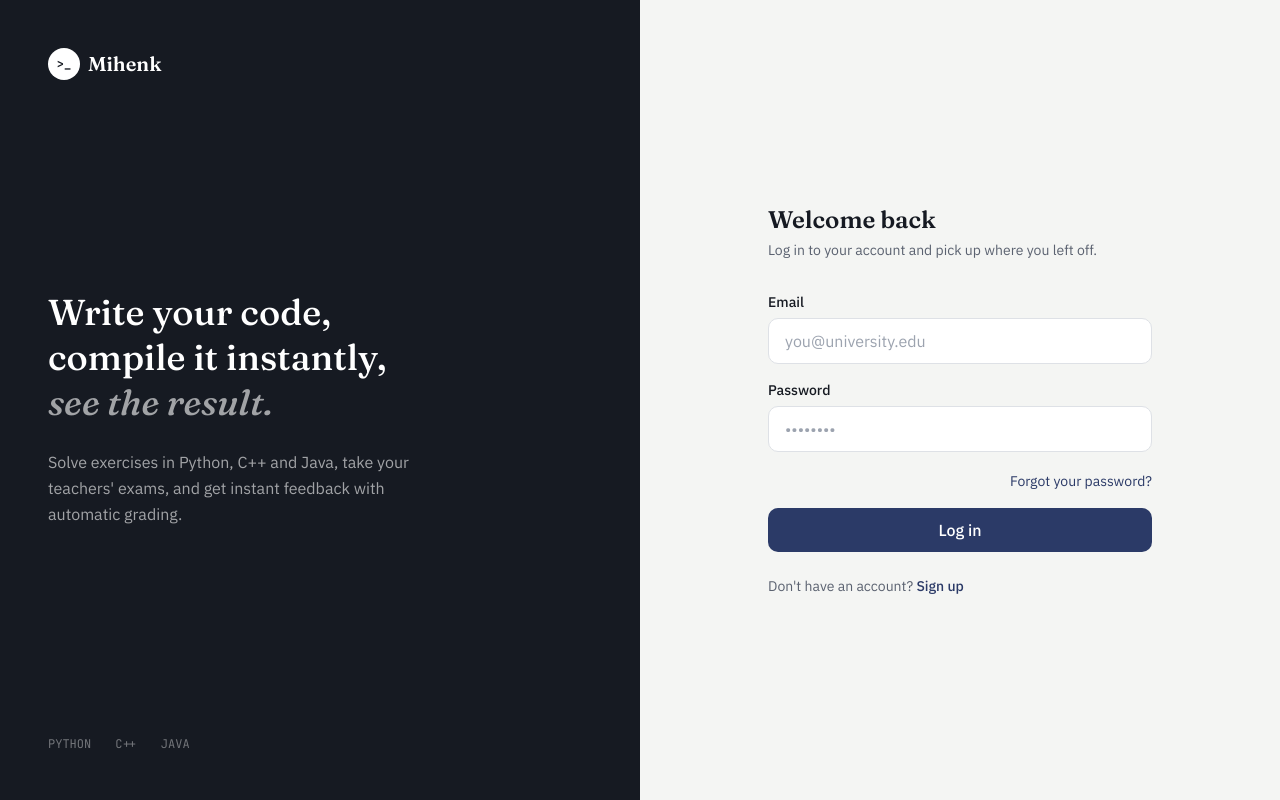
Test: login › does not store anything when the credentials are wrong
The width and height of the screenshot is (1280, 800).
Type "ada@x.edu" into the field labelled "Email" at (960, 341), box [768, 318, 1152, 364]
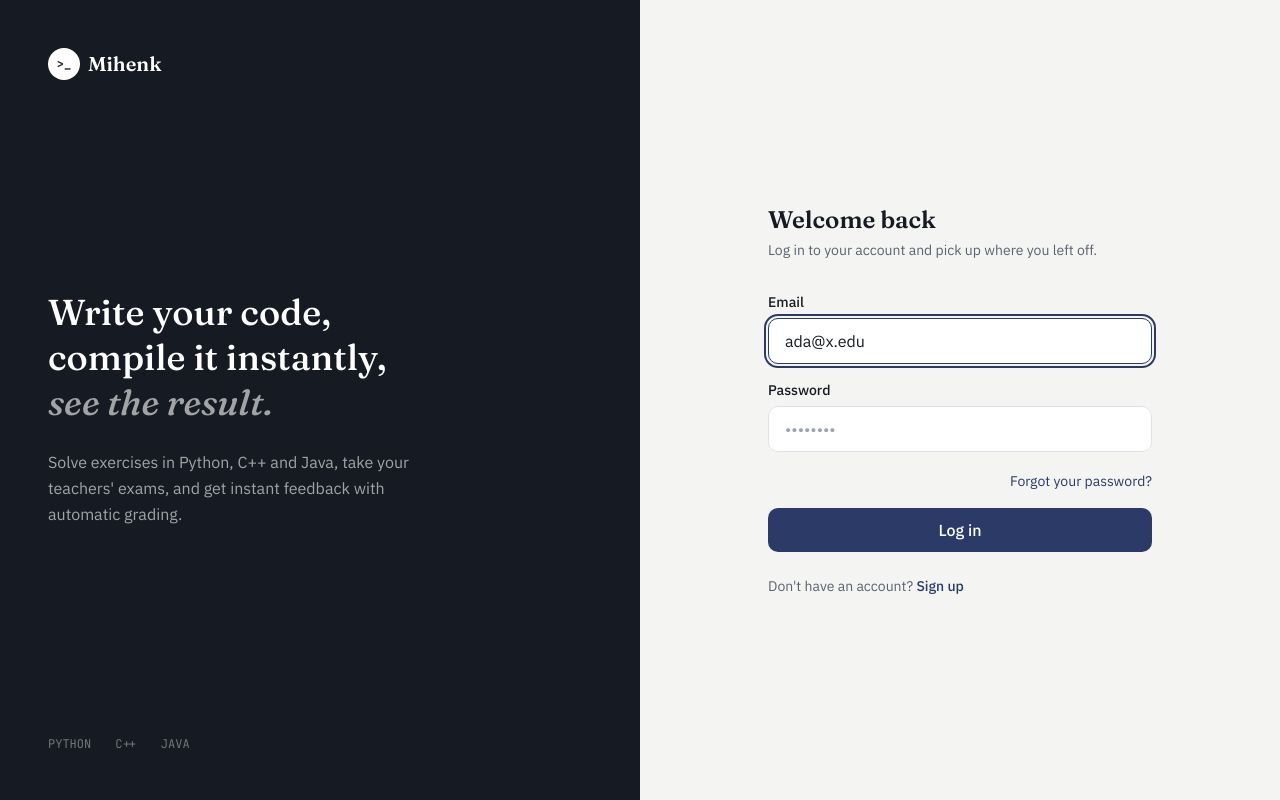
Type "wrong" into the password field labelled "Password" at (960, 429), box [768, 406, 1152, 452]
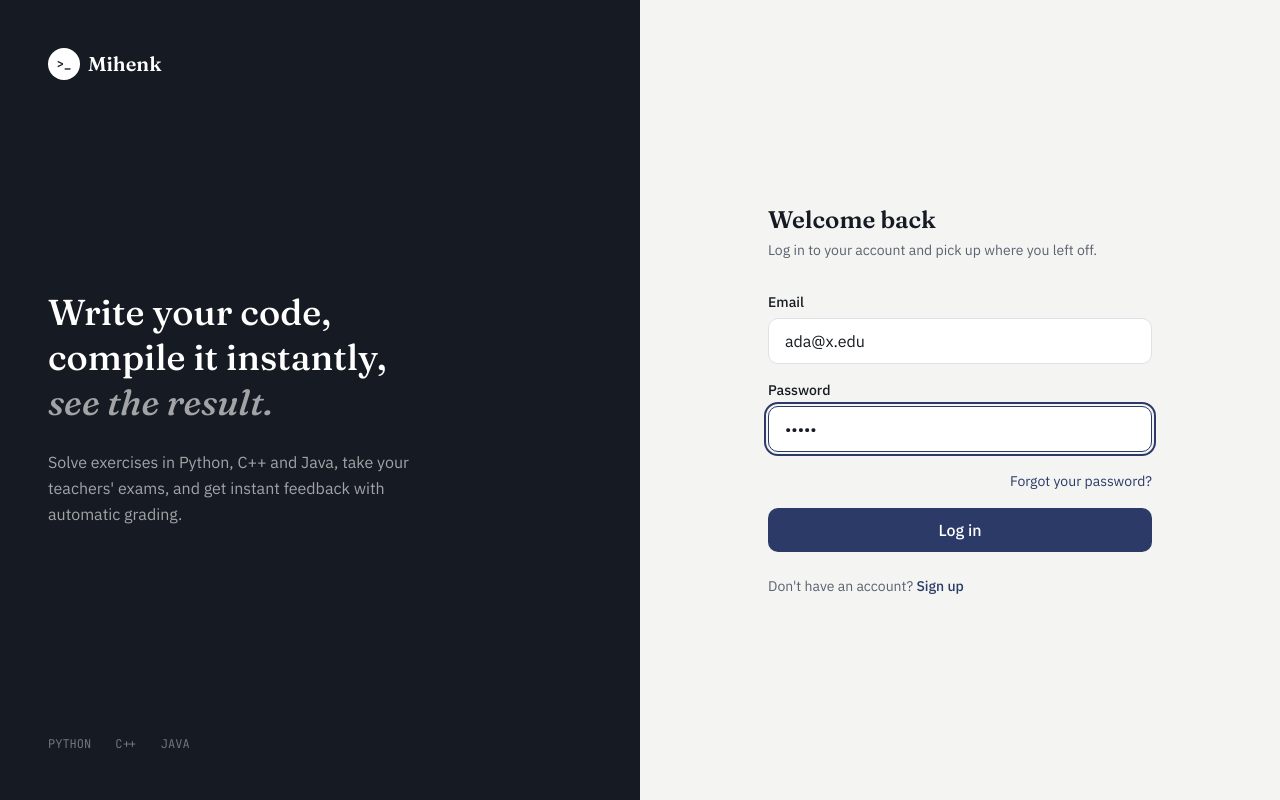
Click the button "Log in" at (960, 530), box [768, 508, 1152, 552]
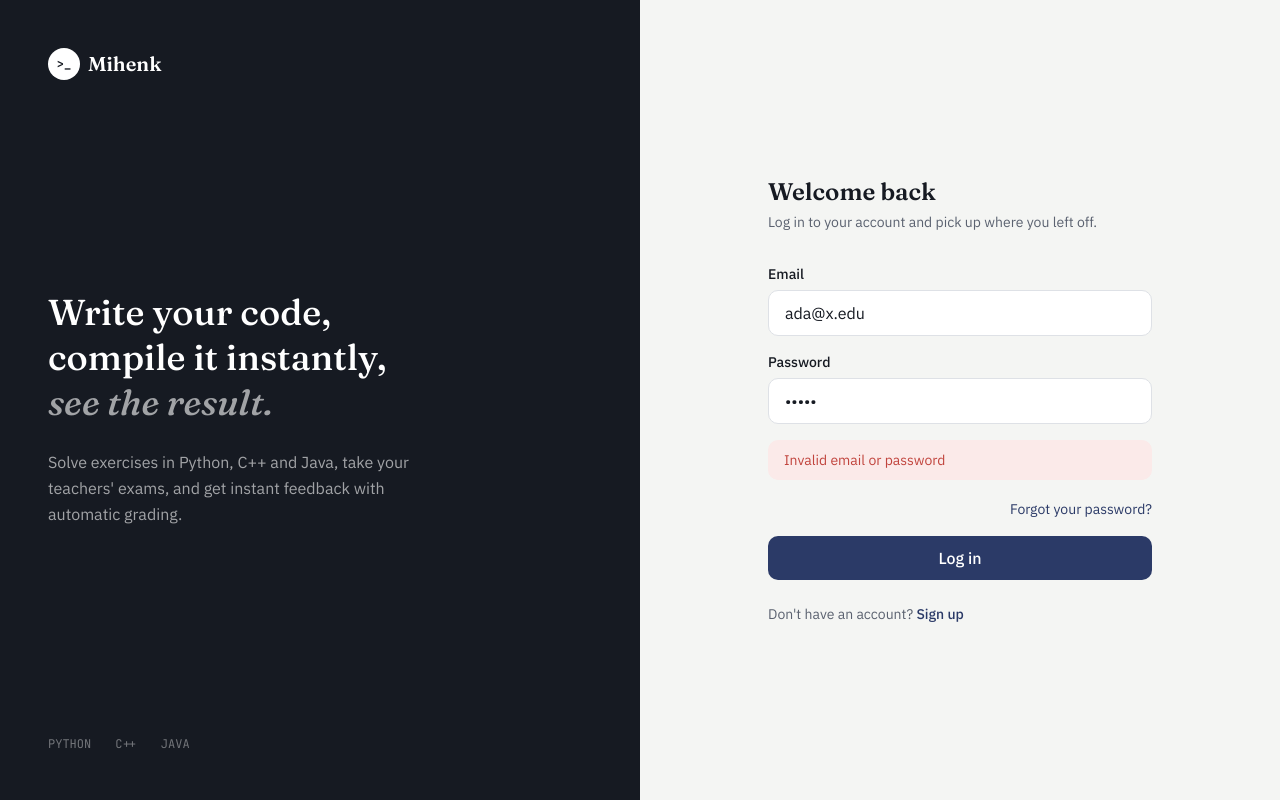
Expected: the text "Invalid email or password" is shown, [768, 440, 1152, 480]
